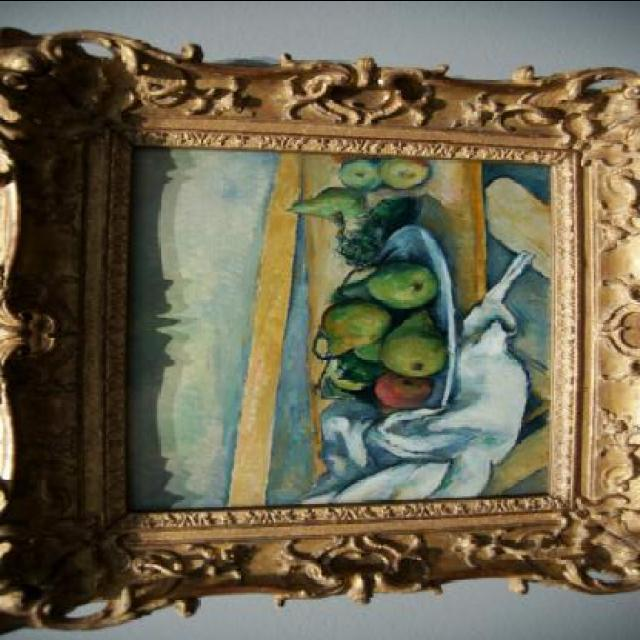Pear: (340, 260, 442, 308), (376, 306, 447, 374), (316, 294, 392, 356), (288, 187, 364, 224)
